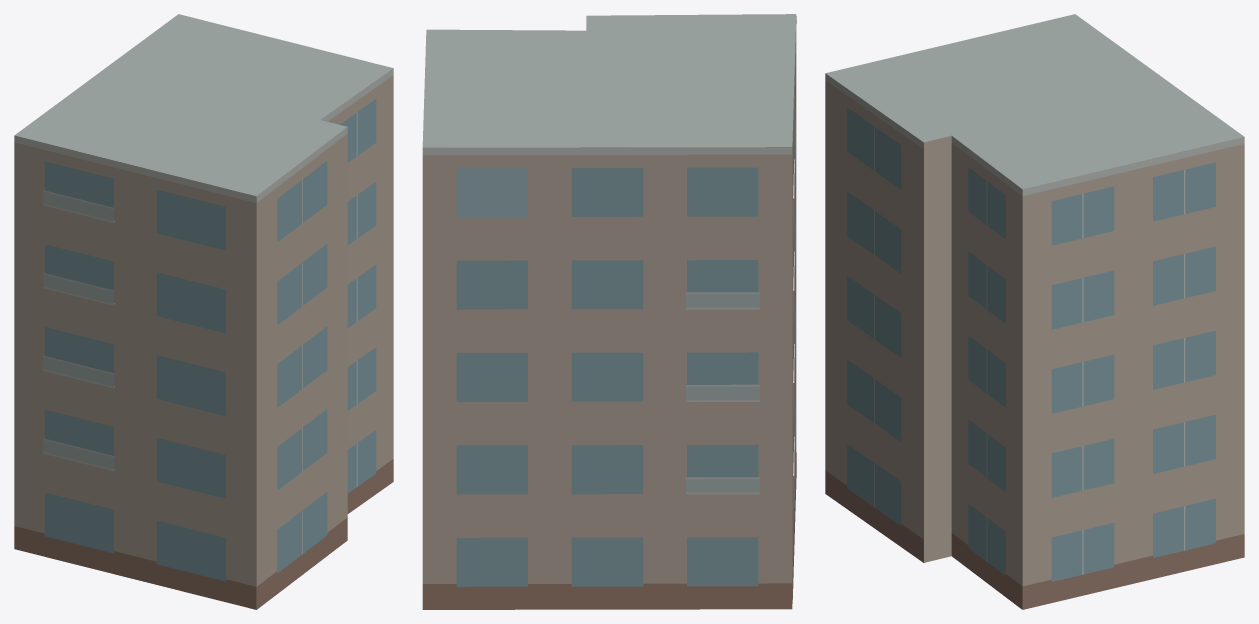
Rendered from survey-upis-32696177.glb.
3 renders of one model, left to right at view 1: azimuth 30°, elevation 25°; view 2: azimuth 150°, elevation 25°; view 3: azimuth 270°, elevation 25°, orthographic. The views are drawn at different scales.
Parts seen in each view (by area): view 1: survey-upis-32696177.tmp; view 2: survey-upis-32696177.tmp; view 3: survey-upis-32696177.tmp.
Part boxes in pixels (x1,y1,x2,y2): survey-upis-32696177.tmp: [14, 14, 393, 609]; survey-upis-32696177.tmp: [422, 14, 796, 609]; survey-upis-32696177.tmp: [825, 14, 1244, 609].
Bounding box in the file's own units: 13.33 × 14.9 × 13.48.
